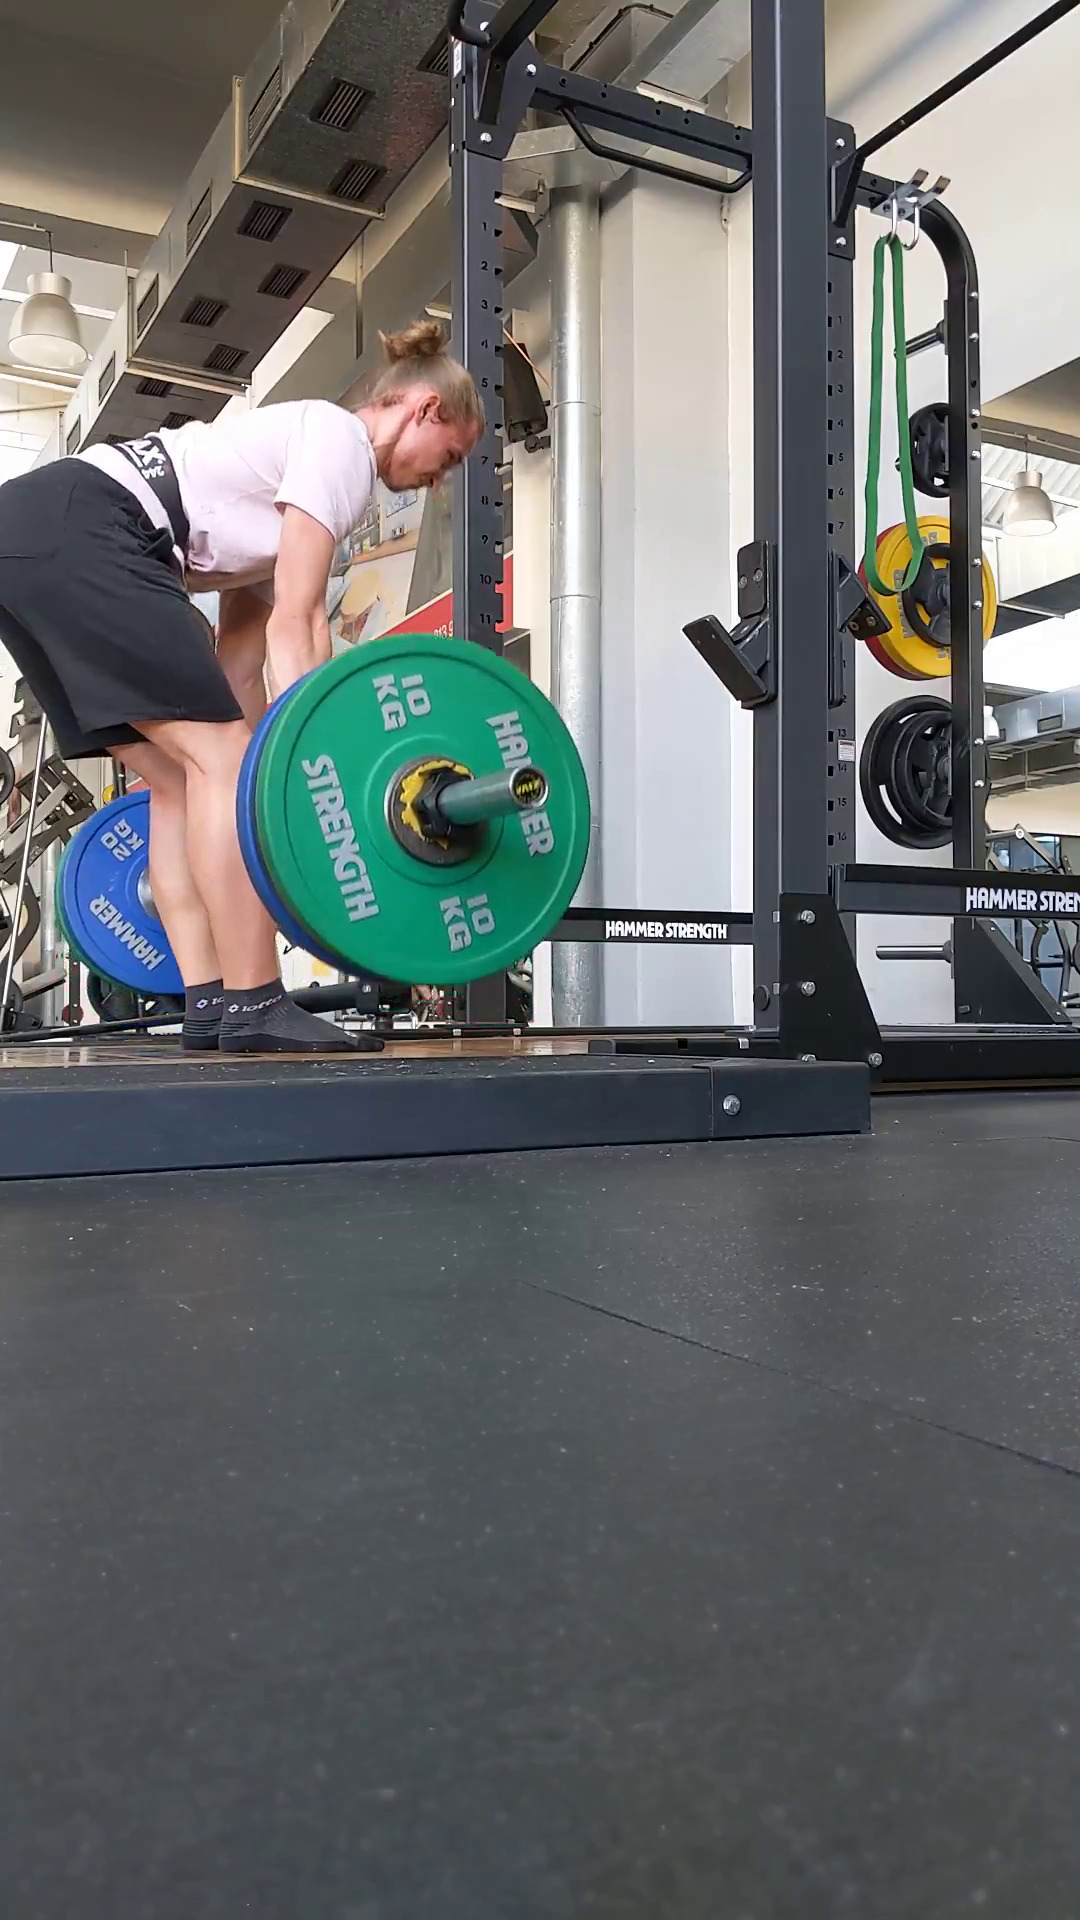barbell: (262, 633, 589, 982), (0, 745, 15, 803)
